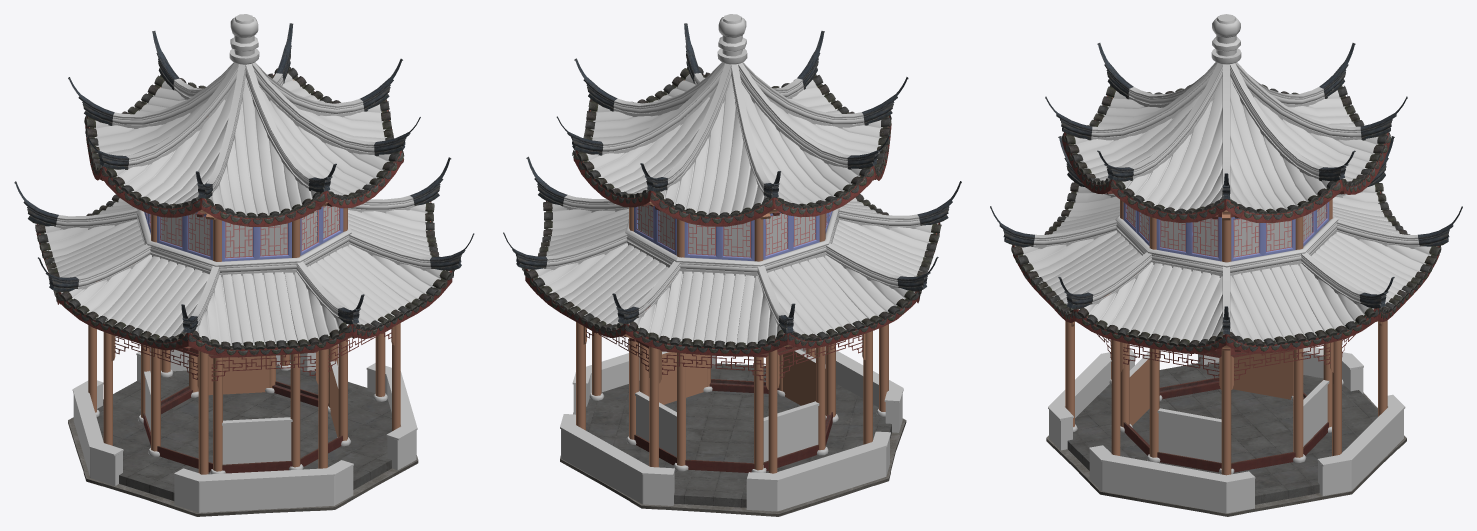
The model's file is Pavillion_Large.FBX.
The picture shows the model from 3 angles, left to right: view 1: azimuth 30°, elevation 25°; view 2: azimuth 150°, elevation 25°; view 3: azimuth 270°, elevation 25°; orthographic projection.
Parts seen in each view (by area): view 1: Geometry_Pavillion_Large_A_LOD00; view 2: Geometry_Pavillion_Large_A_LOD00; view 3: Geometry_Pavillion_Large_A_LOD00.
Part boxes in pixels (x1,y1,x2,y2): Geometry_Pavillion_Large_A_LOD00: (14, 14, 474, 516); Geometry_Pavillion_Large_A_LOD00: (503, 14, 961, 516); Geometry_Pavillion_Large_A_LOD00: (990, 14, 1462, 516).
Size of the model in its own units: 927 by 916 by 927.
